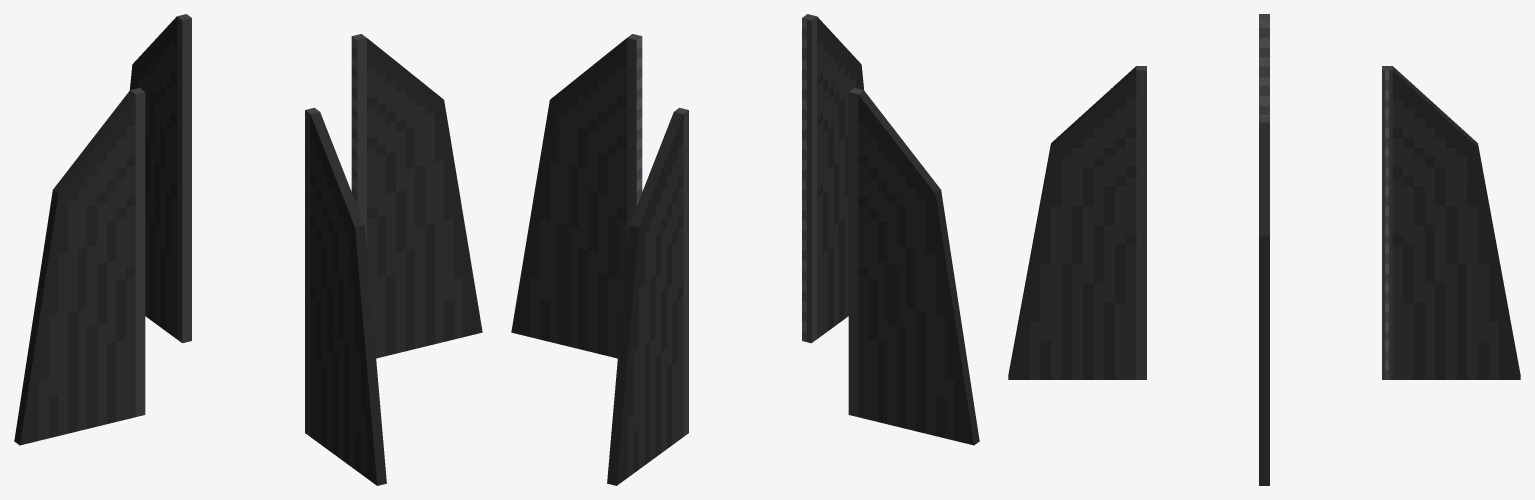
Rendered from mp_s_15_thin.obj.
3 renders of one model, left to right at view 1: azimuth 30°, elevation 25°; view 2: azimuth 150°, elevation 25°; view 3: azimuth 270°, elevation 25°, orthographic. The views are drawn at different scales.
Visible parts, largest first — view 1: Cube_Cube.001; view 2: Cube_Cube.001; view 3: Cube_Cube.001.
Part boxes in pixels (bbox=[...]): Cube_Cube.001: bbox=[14, 14, 482, 485]; Cube_Cube.001: bbox=[511, 14, 979, 485]; Cube_Cube.001: bbox=[1008, 14, 1520, 485].
Size of the model in its own units: 3 by 2 by 3.
